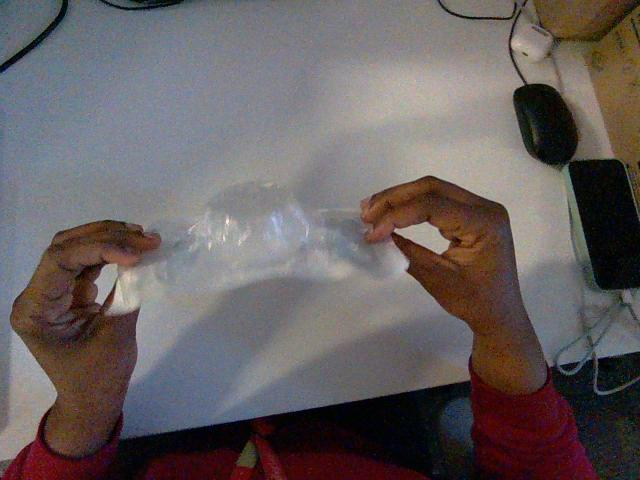gallipot: (110, 182, 408, 312)
